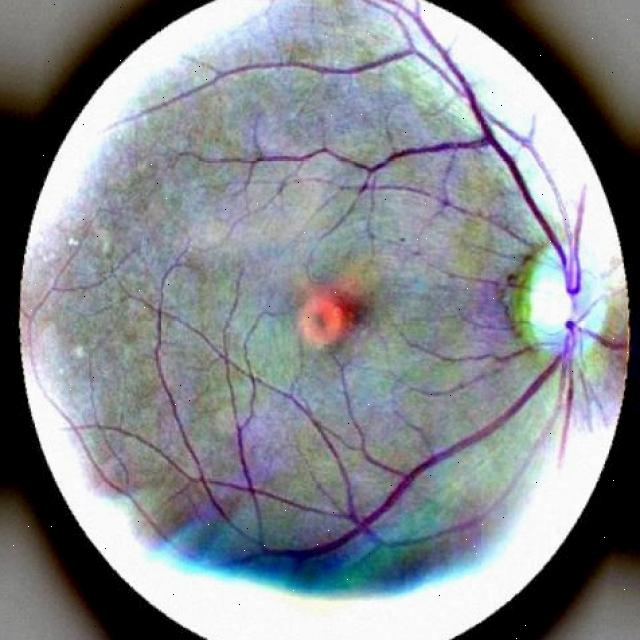Macula: (292, 291, 347, 348)
Nerves: (270, 0, 628, 554), (191, 414, 301, 515), (436, 160, 530, 243)
Optic Disk: (529, 242, 611, 359)
